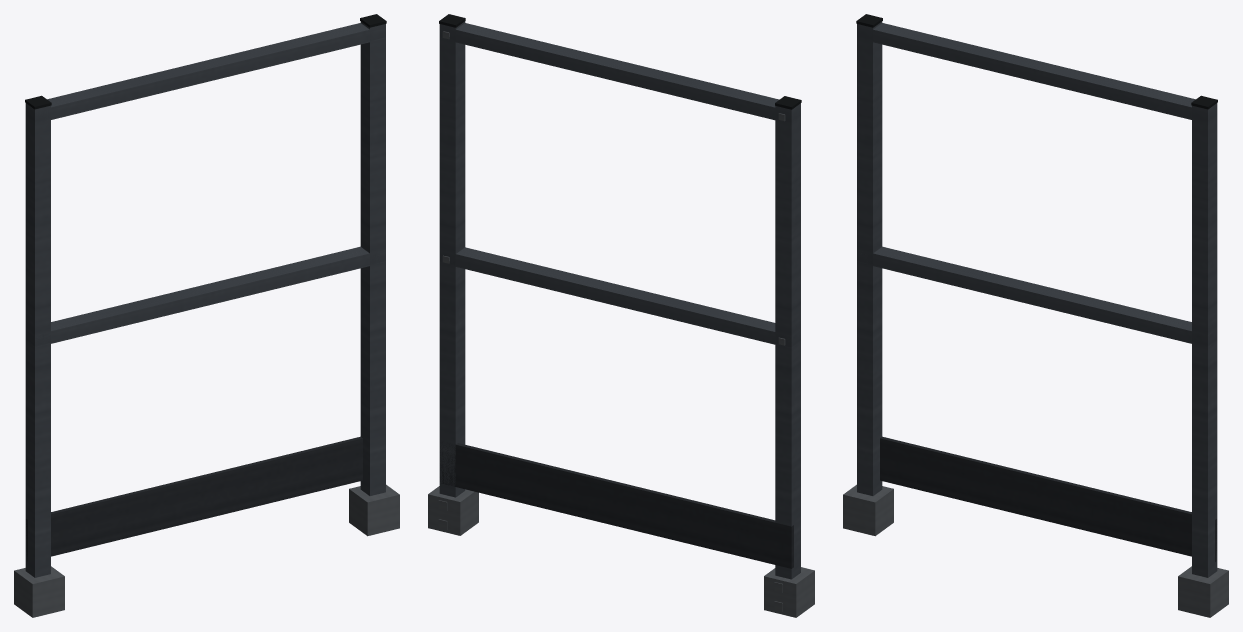
File: safety_railings_1m.obj
3 renders of one model, left to right at view 1: azimuth 30°, elevation 25°; view 2: azimuth 150°, elevation 25°; view 3: azimuth 330°, elevation 25°, orthographic.
Visible parts, largest first — view 1: part_157, part_19, part_73, part_3, part_57, part_151, part_127, part_142, part_118, part_25, part_79, part_1 (+8 smaller); view 2: part_156, part_66, part_12, part_3, part_57, part_144, part_120, part_142, part_118, part_78, part_24, part_160 (+10 smaller); view 3: part_157, part_73, part_19, part_62, part_8, part_127, part_151, part_142, part_118, part_25, part_79, part_61 (+8 smaller).
Part boxes in pixels (x1,y1,x2,y2): part_157: [51, 438, 362, 556]; part_19: [36, 106, 49, 577]; part_73: [371, 24, 384, 495]; part_3: [25, 103, 34, 577]; part_57: [360, 21, 369, 495]; part_151: [35, 27, 385, 122]; part_127: [35, 251, 385, 346]; part_142: [47, 23, 369, 107]; part_118: [51, 246, 369, 330]; part_25: [32, 576, 64, 617]; part_79: [367, 494, 399, 535]; part_1: [35, 109, 36, 577]; part_156: [439, 442, 791, 568]; part_66: [441, 24, 454, 497]; part_12: [776, 106, 790, 578]; part_3: [791, 103, 800, 578]; part_57: [455, 21, 465, 497]; part_144: [439, 27, 791, 122]; part_120: [439, 255, 791, 347]; part_142: [456, 23, 779, 107]; part_118: [456, 247, 775, 331]; part_78: [428, 494, 460, 535]; part_24: [764, 576, 796, 617]; part_160: [456, 443, 775, 522]; part_157: [880, 438, 1191, 556]; part_73: [1193, 106, 1206, 577]; part_19: [858, 24, 871, 495]; part_62: [1208, 103, 1217, 577]; part_8: [873, 21, 882, 495]; part_127: [857, 251, 1207, 345]; part_151: [857, 30, 1199, 118]; part_142: [873, 23, 1195, 107]; part_118: [873, 246, 1191, 330]; part_25: [843, 494, 875, 535]; part_79: [1178, 576, 1210, 617]; part_61: [1206, 109, 1207, 577].
Size of the model in its own units: 0.91 by 1.2 by 0.087.
2 materials, 2 textured.
